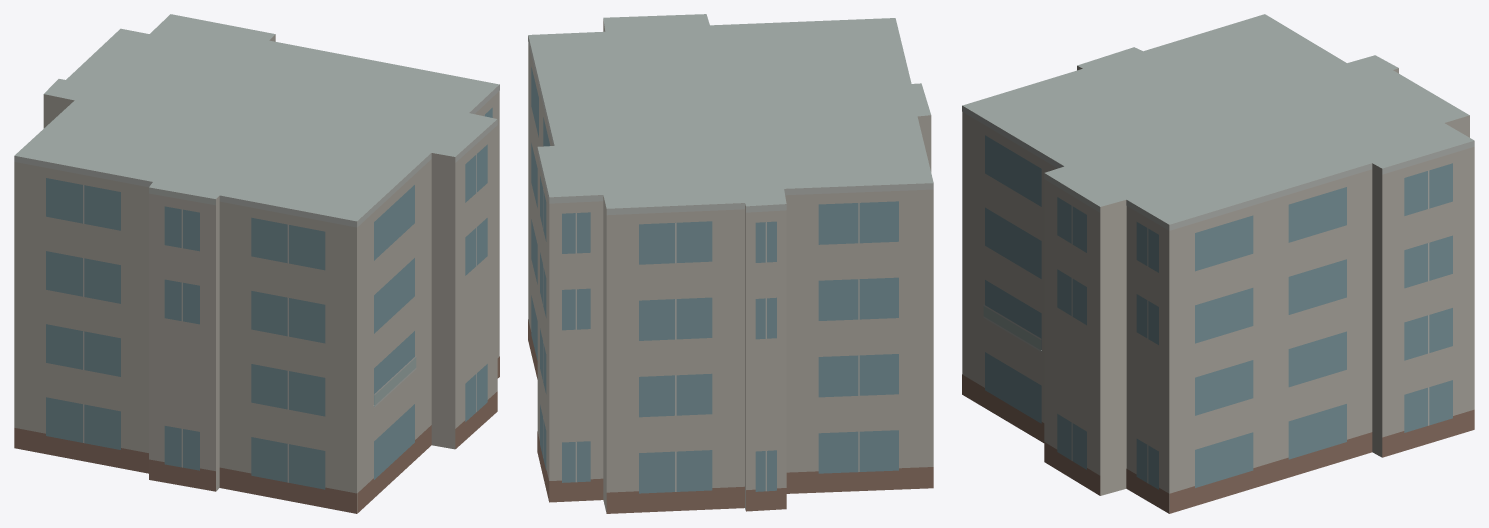
Rendered from survey-upis-32812122.glb.
3 renders of one model, left to right at view 1: azimuth 30°, elevation 25°; view 2: azimuth 150°, elevation 25°; view 3: azimuth 270°, elevation 25°, orthographic. The views are drawn at different scales.
Visible parts, largest first — view 1: survey-upis-32812122.tmp; view 2: survey-upis-32812122.tmp; view 3: survey-upis-32812122.tmp.
Part boxes in pixels (left/top/right/bottom): survey-upis-32812122.tmp: left=14, top=14, right=499, bottom=513; survey-upis-32812122.tmp: left=528, top=14, right=933, bottom=513; survey-upis-32812122.tmp: left=962, top=14, right=1474, bottom=513.
Size of the model in its own units: 18.2 by 11.63 by 18.69.
